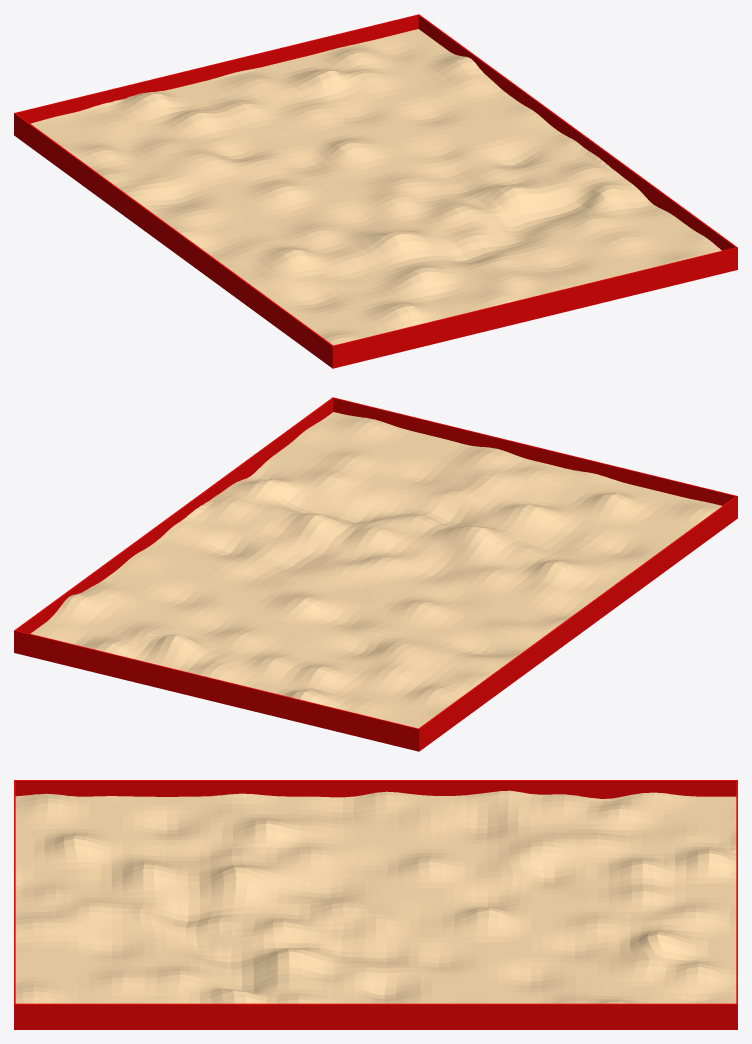
3 renders of one model, top to bottom at view 1: azimuth 30°, elevation 25°; view 2: azimuth 150°, elevation 25°; view 3: azimuth 270°, elevation 25°, orthographic. The views are drawn at different scales.
Visible parts, largest first — view 1: Plane, Container; view 2: Plane, Container; view 3: Plane, Container.
Boxes of the visible parts, x1,y1,x2,y2 form: Plane: (30,29,721,345); Container: (14,14,737,368); Plane: (30,412,721,728); Container: (14,397,737,751); Plane: (15,790,736,1003); Container: (14,780,737,1029).
Size of the model in its own units: 228 by 311 by 12.66.
